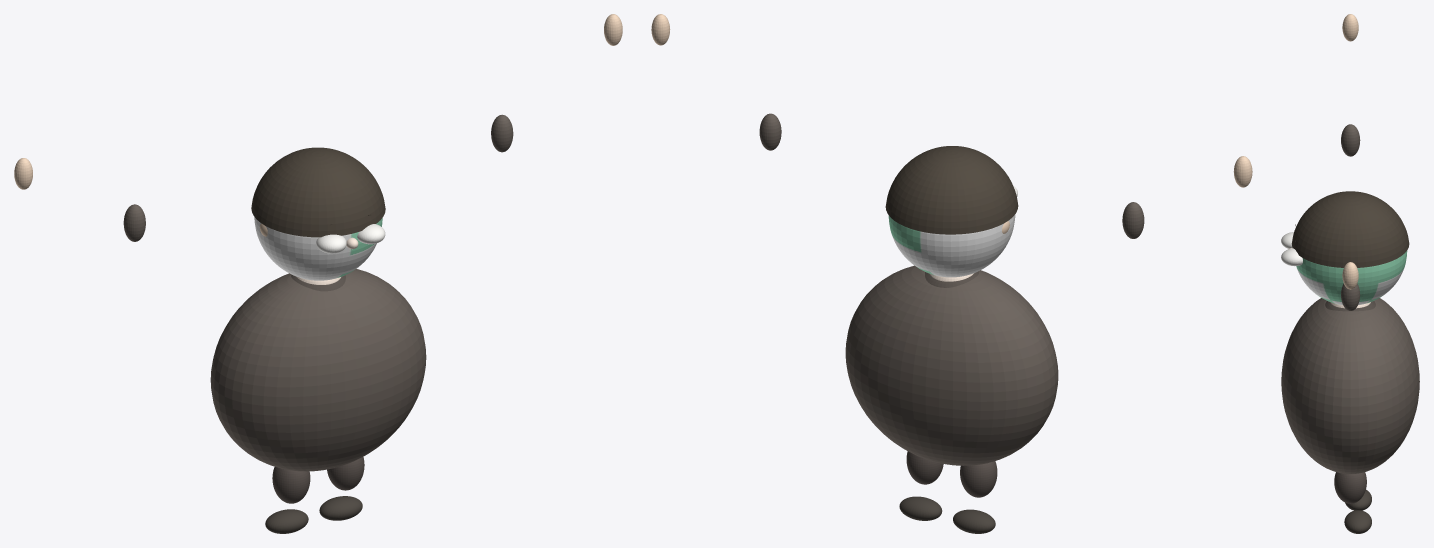
File: avatar.glb
3 renders of one model, left to right at view 1: azimuth 30°, elevation 25°; view 2: azimuth 150°, elevation 25°; view 3: azimuth 270°, elevation 25°, orthographic. The views are drawn at different scales.
Parts seen in each view (by area): view 1: torso, hair, skull, legL, footL, footR, legR; view 2: torso, hair, skull, legL, footR, footL, legR; view 3: torso, hair, skull, legR, footR, arm_L, arm_R, hand_L, hand_R, sclera_R, footL, collar.
Boxes of the visible parts, x1=… form: torso: x1=210, y1=269, x2=426, y2=471; hair: x1=251, y1=147, x2=385, y2=237; skull: x1=254, y1=217, x2=382, y2=280; legL: x1=272, y1=467, x2=310, y2=503; footL: x1=265, y1=509, x2=308, y2=533; footR: x1=319, y1=496, x2=362, y2=520; legR: x1=327, y1=457, x2=364, y2=490; torso: x1=845, y1=265, x2=1058, y2=465; hair: x1=885, y1=146, x2=1018, y2=234; skull: x1=888, y1=214, x2=1015, y2=277; legL: x1=960, y1=461, x2=997, y2=497; footR: x1=899, y1=496, x2=942, y2=520; footL: x1=953, y1=509, x2=995, y2=533; legR: x1=906, y1=451, x2=943, y2=484; torso: x1=1281, y1=298, x2=1419, y2=473; hair: x1=1291, y1=191, x2=1409, y2=267; skull: x1=1296, y1=250, x2=1407, y2=304; legR: x1=1334, y1=472, x2=1366, y2=503; footR: x1=1344, y1=510, x2=1371, y2=533; arm_L: x1=1341, y1=124, x2=1360, y2=156; arm_R: x1=1341, y1=283, x2=1360, y2=310; hand_L: x1=1342, y1=14, x2=1358, y2=41; hand_R: x1=1342, y1=262, x2=1358, y2=289; sclera_R: x1=1281, y1=248, x2=1302, y2=266; footL: x1=1345, y1=489, x2=1371, y2=510; collar: x1=1325, y1=301, x2=1375, y2=311.
Bounding box in the file's own units: 6.27 × 4.36 × 1.44.
12 materials, 1 textured.
